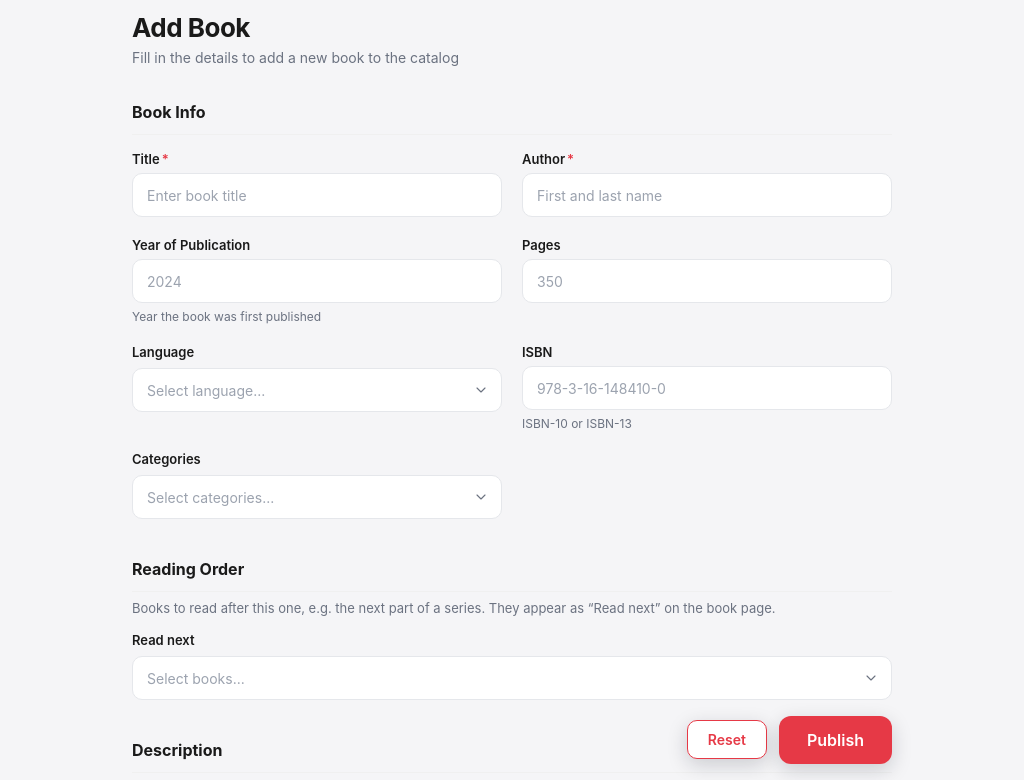
Test: PostConstructor › admin form › shows success screen after a valid submit
In the field labelled "Title*": point(317, 195) x1=132 y1=173 x2=502 y2=217, type "My Book"
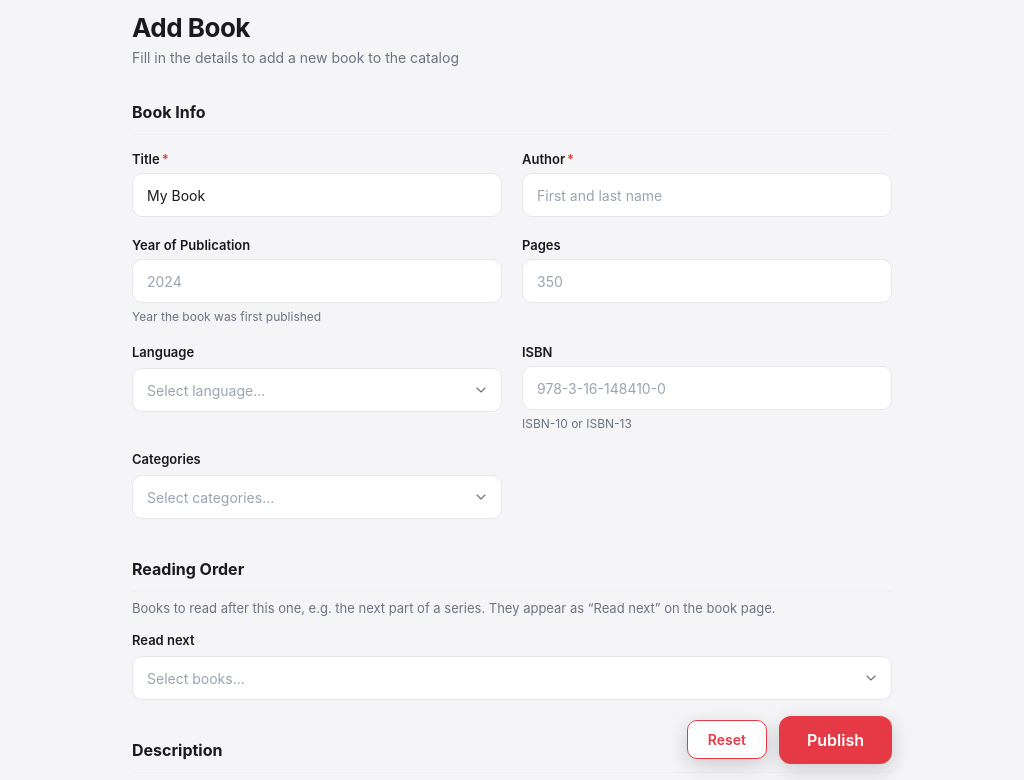
In the field labelled "Author*": point(707, 195) x1=522 y1=173 x2=892 y2=217, type "Jane Doe"
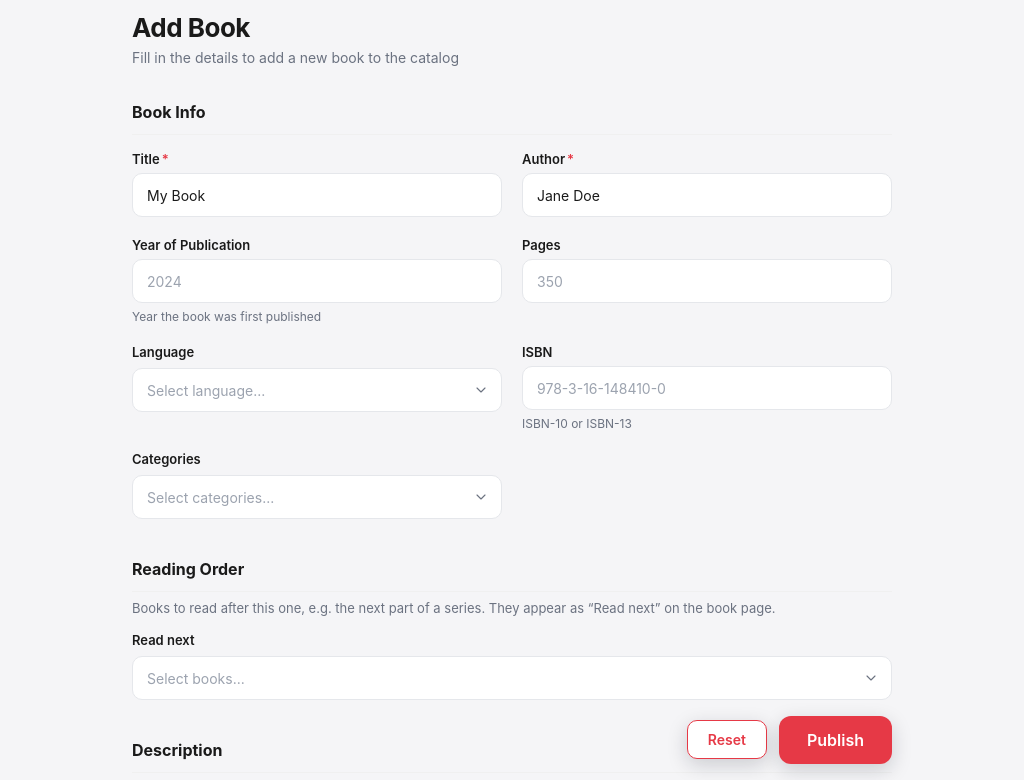
Click the button "Publish": point(835, 740) x1=779 y1=716 x2=892 y2=764
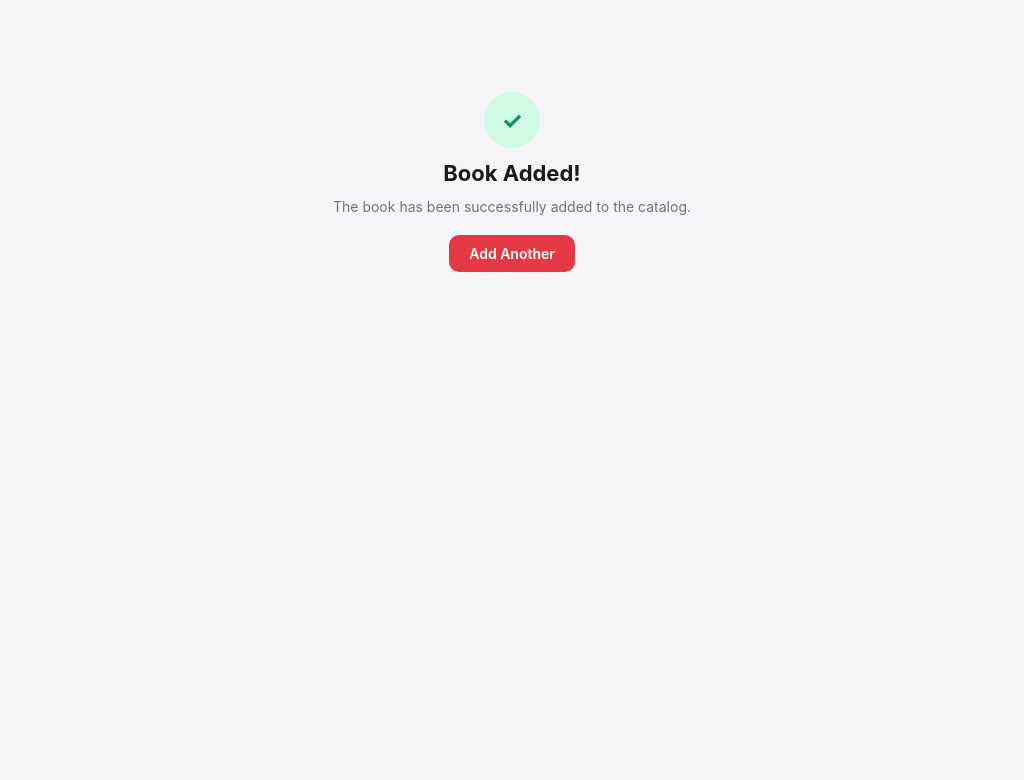
Expected: the element with test id "success-message" is shown, x1=333 y1=92 x2=691 y2=272
Expected: the heading "Book Added!" is shown, x1=443 y1=160 x2=581 y2=186
